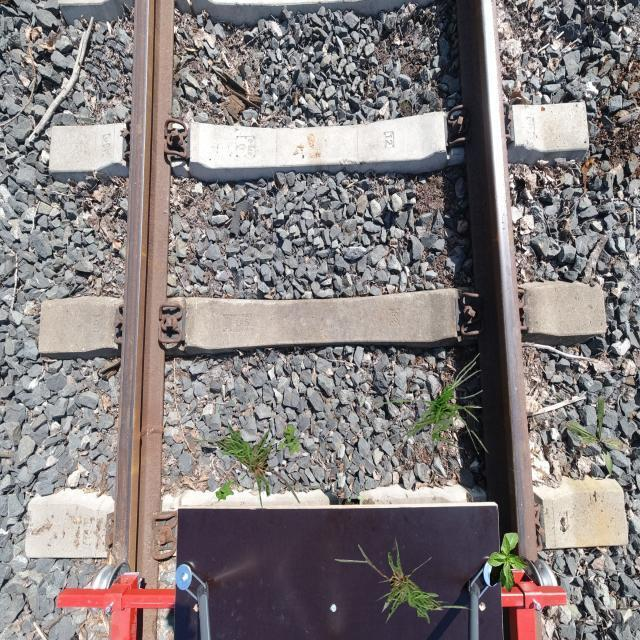Plant: (372, 353, 490, 476), (180, 422, 324, 512), (334, 536, 478, 626), (565, 395, 629, 479), (488, 533, 530, 593), (278, 425, 302, 456), (215, 478, 235, 502)
